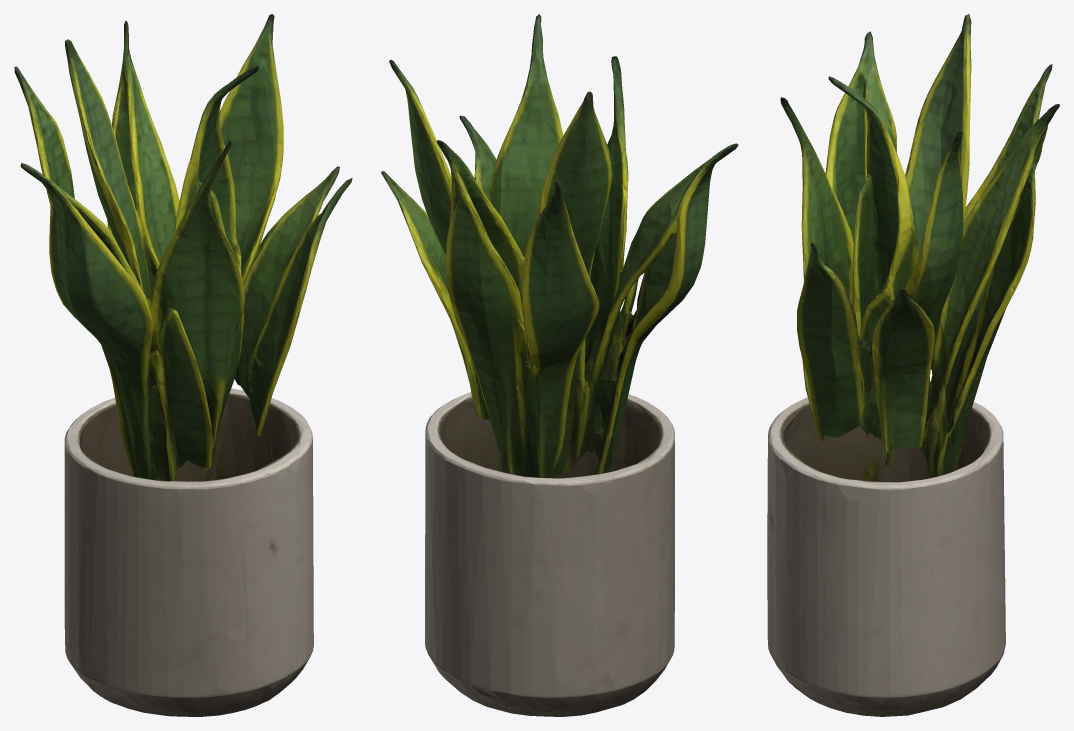
The model's file is plant_snake_concrete.glb.
3 renders of one model, left to right at view 1: azimuth 30°, elevation 25°; view 2: azimuth 150°, elevation 25°; view 3: azimuth 270°, elevation 25°, orthographic. The views are drawn at different scales.
Visible parts, largest first — view 1: geometry_0; view 2: geometry_0; view 3: geometry_0.
Part boxes in pixels (bbox=[...]): geometry_0: bbox=[14, 14, 352, 716]; geometry_0: bbox=[381, 14, 738, 716]; geometry_0: bbox=[767, 14, 1059, 716].
Bounding box in the file's own units: 0.56 × 1 × 0.427.
1 material, 1 textured.
